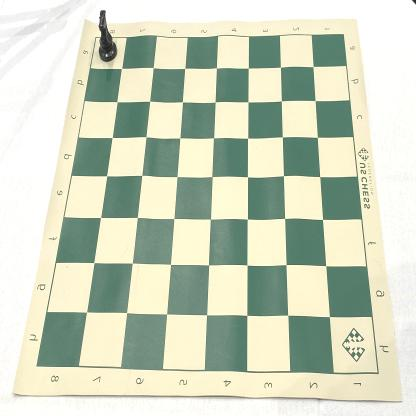black-knight: (98, 10, 118, 63)
